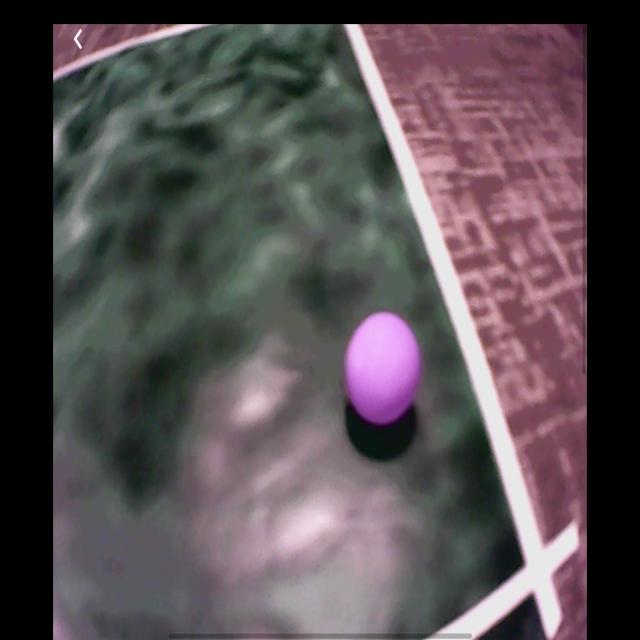ball: (345, 314, 422, 427)
